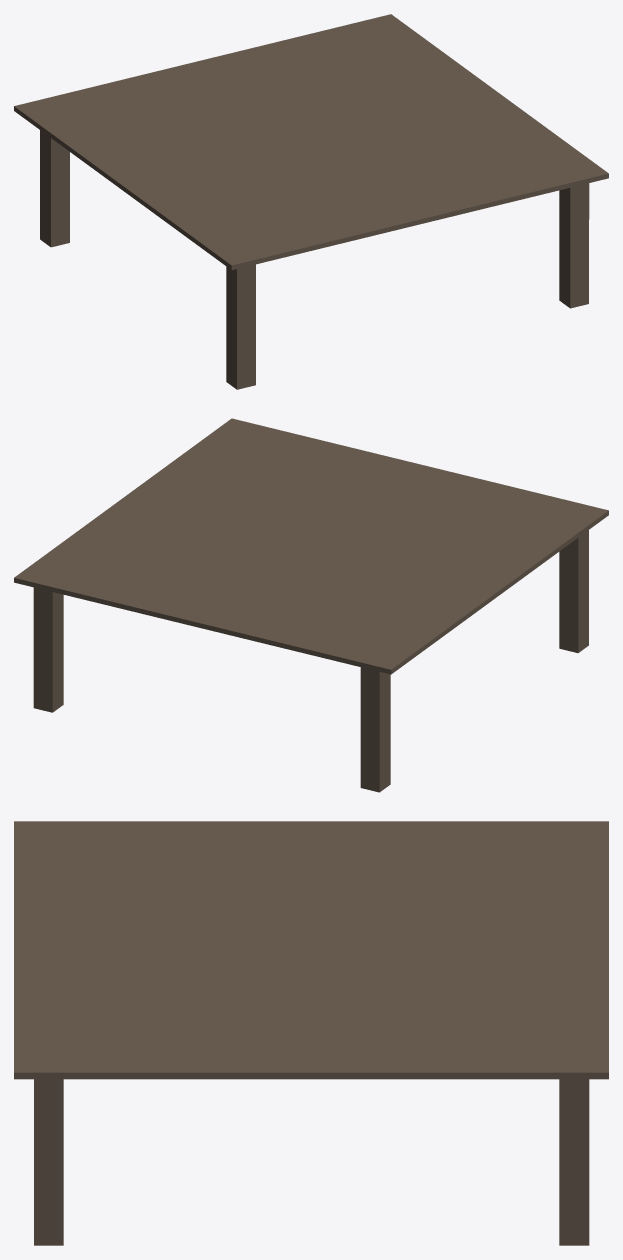
The model's file is table.fbx.
The picture shows the model from 3 angles, top to bottom: view 1: azimuth 30°, elevation 25°; view 2: azimuth 150°, elevation 25°; view 3: azimuth 270°, elevation 25°; orthographic projection. The views are drawn at different scales.
Visible parts, largest first — view 1: pasted__pCube2; view 2: pasted__pCube2; view 3: pasted__pCube2.
Part boxes in pixels (<box>): pasted__pCube2: <box>14,14,608,389</box>; pasted__pCube2: <box>14,418,608,792</box>; pasted__pCube2: <box>14,821,608,1245</box>.
Size of the model in its own units: 11.69 by 3.93 by 11.69.
